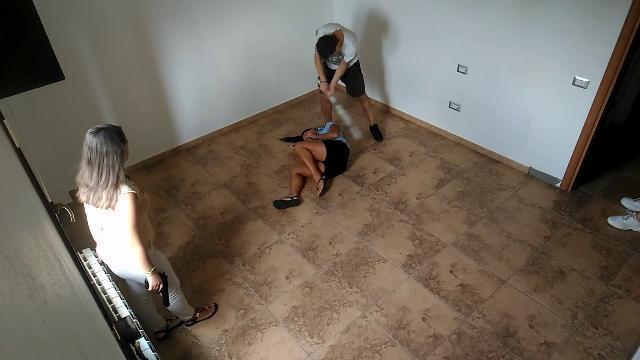non-violence: (72, 122, 220, 344)
violence: (272, 21, 386, 211)
weapon: (144, 272, 169, 307)
